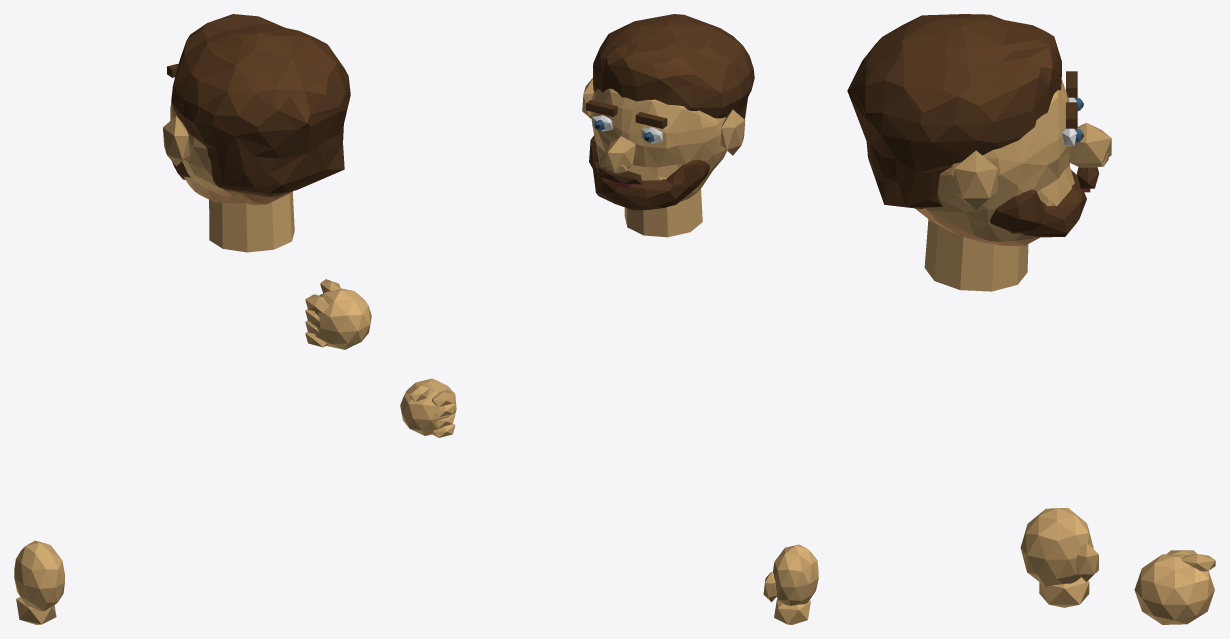
Rendered from angler.fbx.
3 views of the same model, side by side, from view 1: azimuth 30°, elevation 25°; view 2: azimuth 150°, elevation 25°; view 3: azimuth 270°, elevation 25° (orthographic). The views are drawn at different scales.
Parts seen in each view (by area): view 1: angler_0; view 2: angler_0; view 3: angler_0.
Boxes of the visible parts, box(x1,y1,x2,y2) form: angler_0: box(14, 14, 371, 624); angler_0: box(400, 14, 818, 624); angler_0: box(847, 14, 1215, 624).
Size of the model in its own units: 0.7366 by 1.03 by 0.5005.
